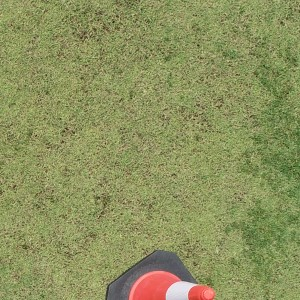traffic cone: (105, 249, 215, 300)
